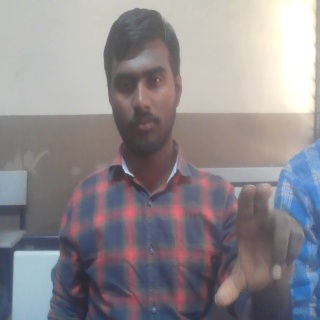Face: (101, 6, 184, 158)
No: (212, 181, 308, 309)
